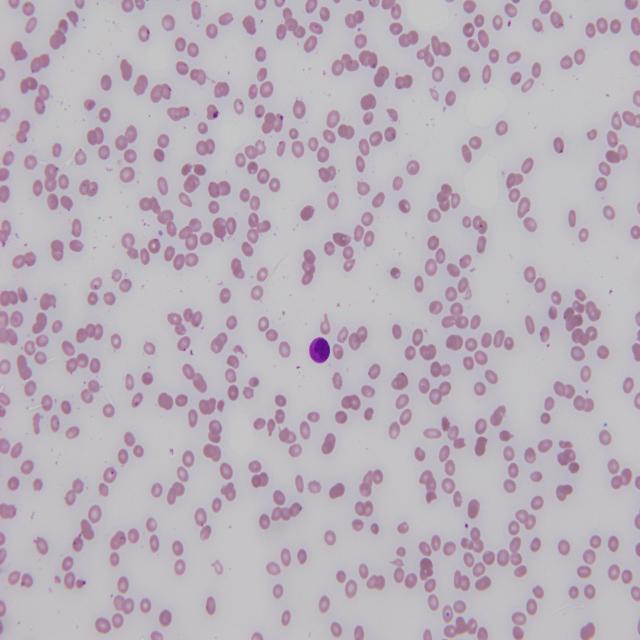cell: (309, 338, 330, 363)
